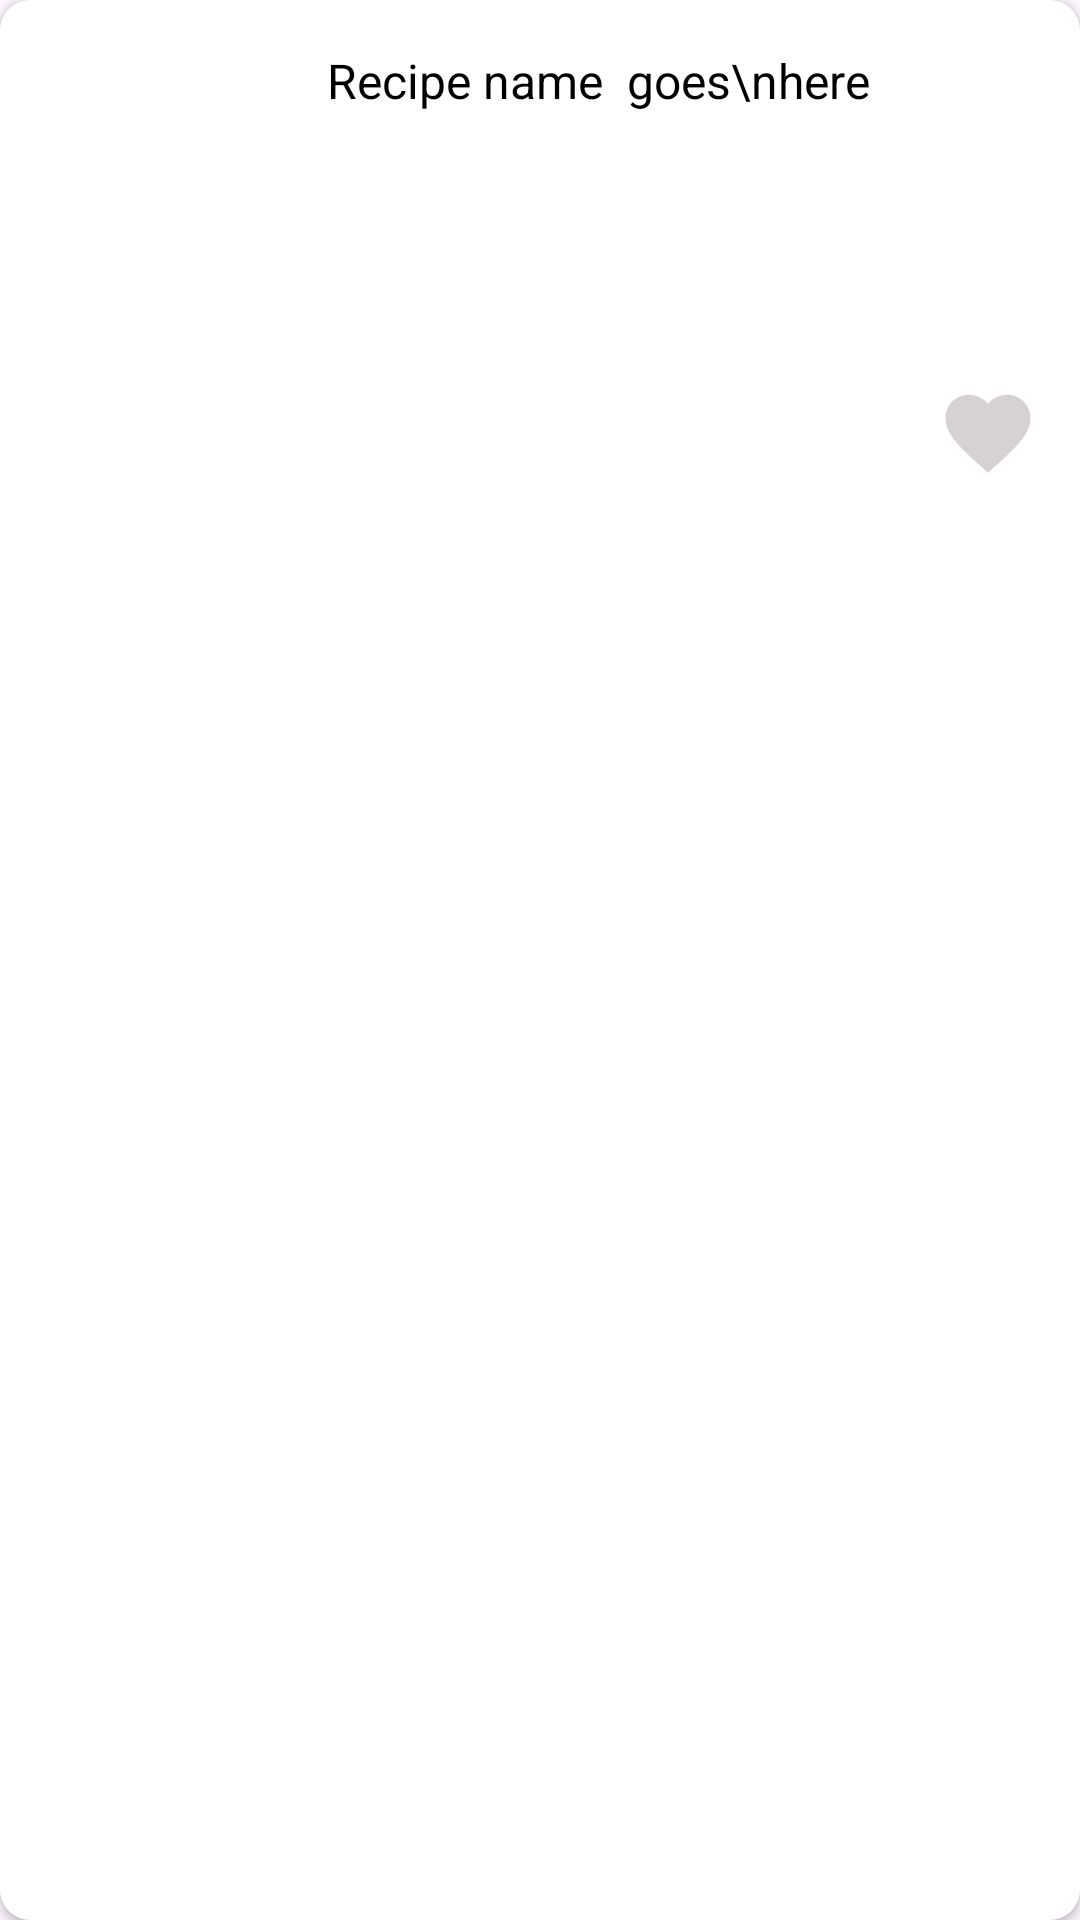

Locate icon controls on the screen. Image size 1080 × 1920, boxes as box(x1, y1, x2, y2).
favorite: box(946, 395, 1030, 472)
